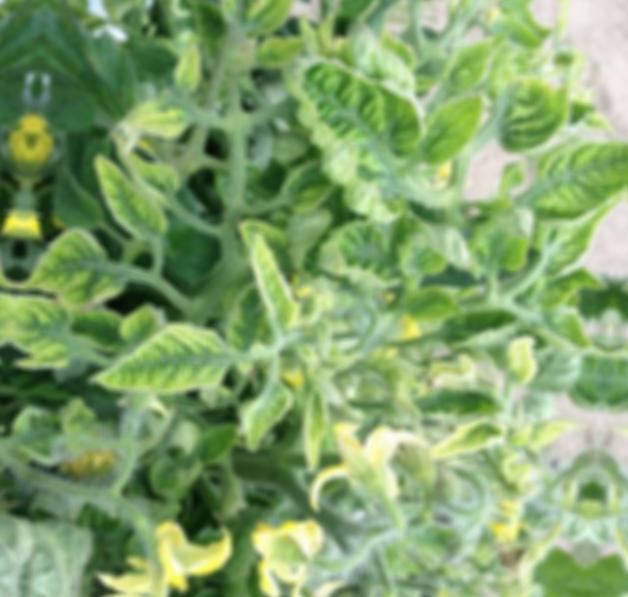Tomato leaf yellow virus: (253, 35, 436, 233), (90, 303, 243, 421), (526, 106, 628, 228), (392, 64, 493, 185), (306, 193, 407, 313), (2, 285, 95, 412), (77, 146, 177, 249), (22, 223, 126, 317), (319, 412, 398, 533), (187, 0, 301, 50)
